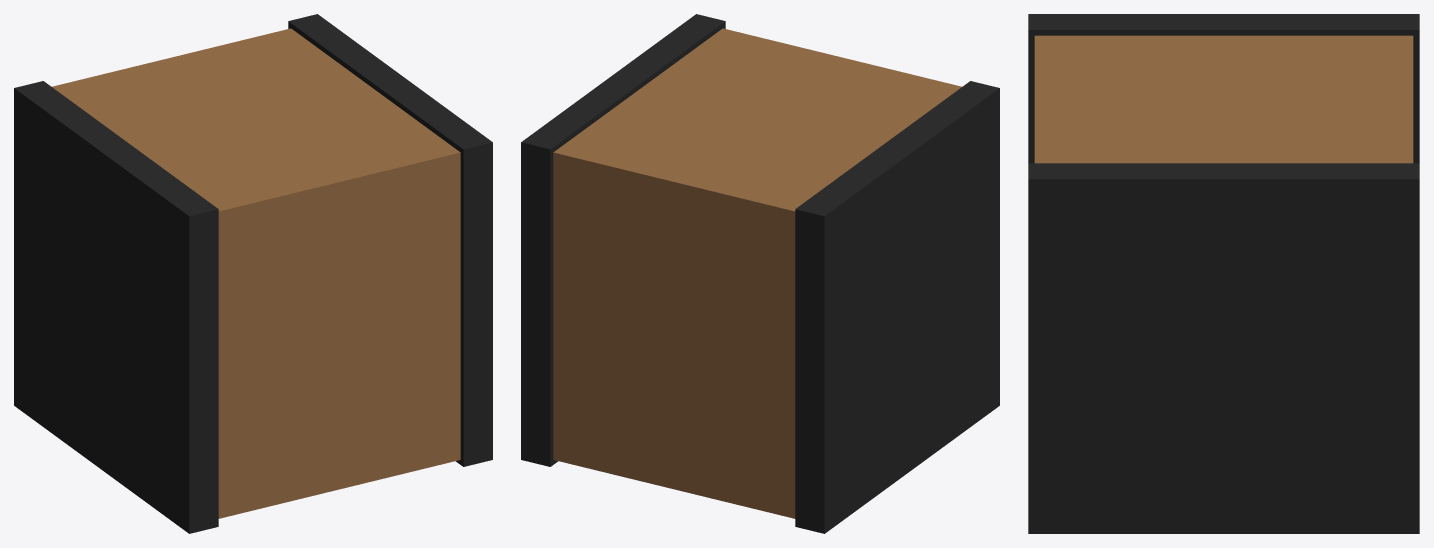
The model's file is smoke-crate.glb.
3 renders of one model, left to right at view 1: azimuth 30°, elevation 25°; view 2: azimuth 150°, elevation 25°; view 3: azimuth 270°, elevation 25°, orthographic. The views are drawn at different scales.
Parts seen in each view (by area): view 1: smoke-crate, strapL, strapR; view 2: smoke-crate, strapL, strapR; view 3: strapR, smoke-crate, strapL.
Boxes of the visible parts, x1,y1,x2,y2 form: smoke-crate: [52, 28, 460, 518]; strapL: [14, 81, 218, 533]; strapR: [288, 14, 492, 466]; smoke-crate: [553, 28, 961, 518]; strapL: [795, 81, 999, 533]; strapR: [521, 14, 725, 466]; strapR: [1028, 163, 1419, 533]; smoke-crate: [1034, 35, 1413, 163]; strapL: [1028, 14, 1419, 163].
Bounding box in the file's own units: 0.62 × 0.62 × 0.62.
